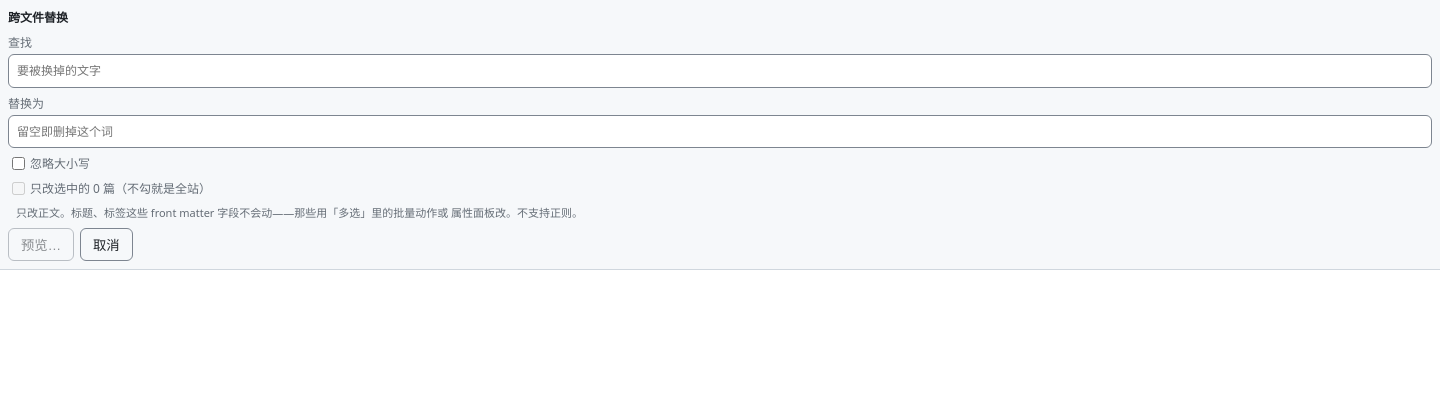
Test: ReplacePanel › 一处都没命中时说清楚，并且不给按「替换」
This screenshot has width=1440, height=395.
Type "不存在的词" into the field labelled "查找" at {"x": 720, "y": 71}, box [8, 54, 1432, 88]
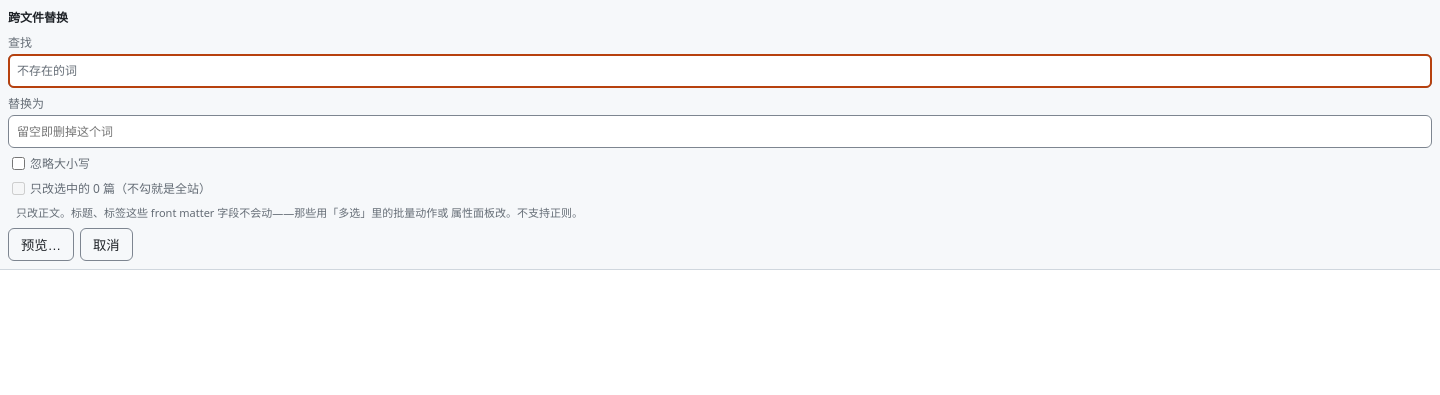
Submit the form
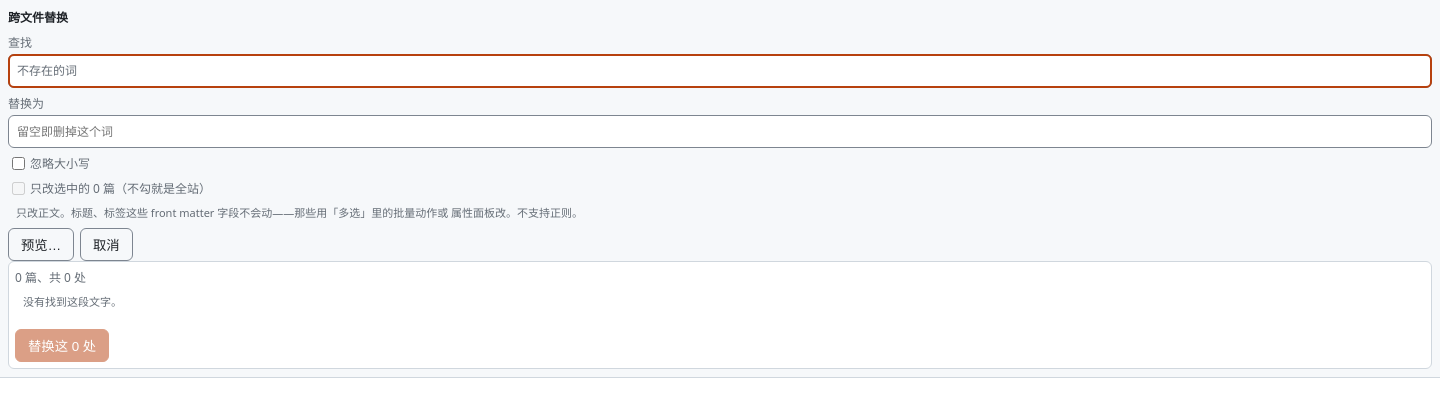
Expected: the element showing "0 篇、共 0 处 没有找到这段文字。 替换这 0 处" is shown, [8, 261, 1432, 369]
Expected: the button "替换这 0 处" is disabled, [15, 329, 109, 362]
